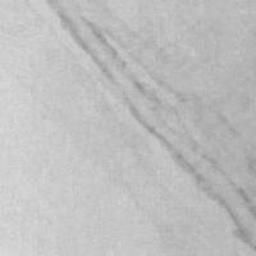Water spot: (51, 10, 256, 250)
